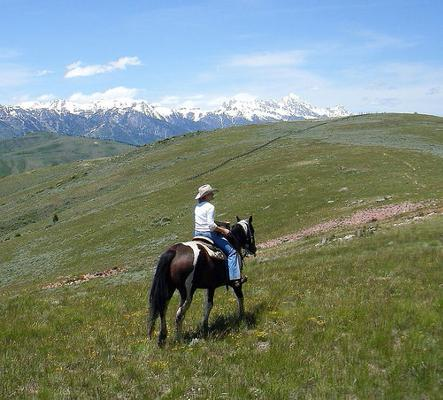person: (194, 185, 249, 288)
